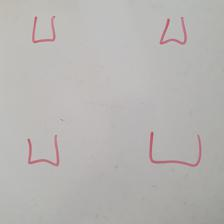operator: (150, 131, 202, 167), (28, 135, 60, 166), (160, 17, 186, 45), (33, 16, 55, 43)
